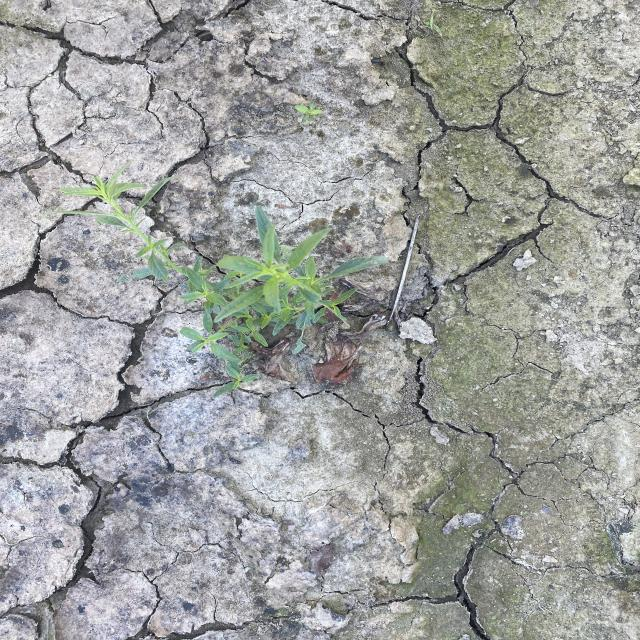Waterhemp: (40, 156, 392, 399)
